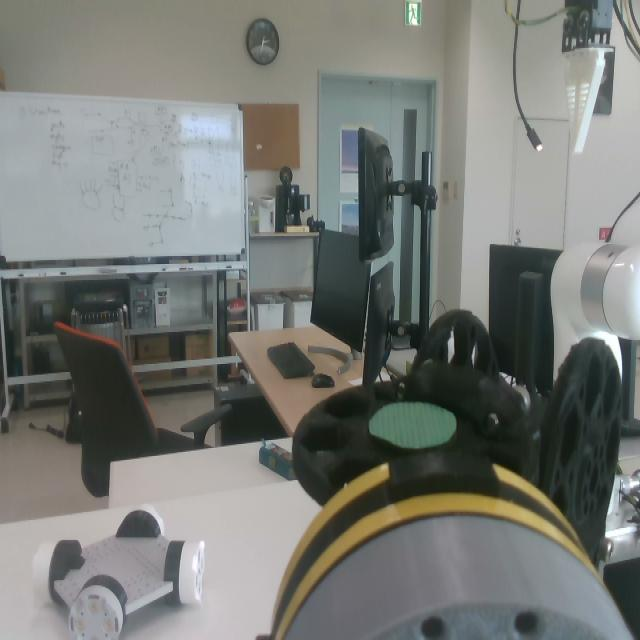body_connector: (274, 515, 633, 640)
connection: (257, 447, 635, 640)
leg: (266, 309, 622, 640)
leg_connector: (256, 452, 595, 640)
marker: (367, 399, 456, 448)
